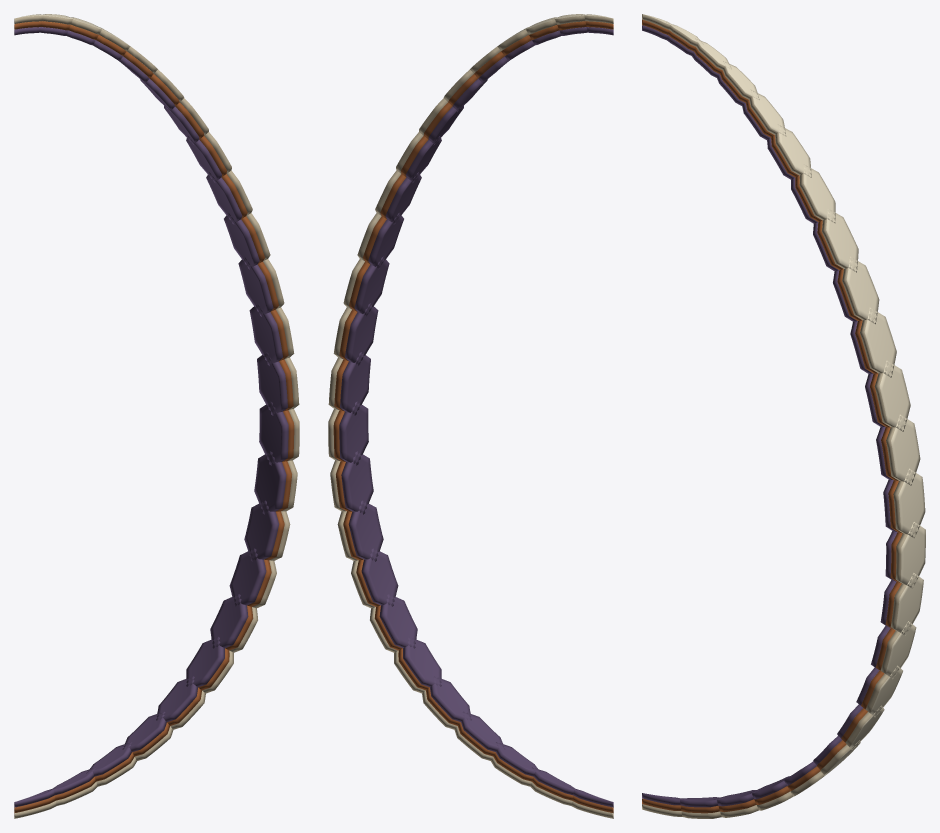
Rendered from vesper-egg-plates.fbx.
3 views of the same model, side by side, from view 1: azimuth 30°, elevation 25°; view 2: azimuth 150°, elevation 25°; view 3: azimuth 330°, elevation 25° (orthographic).
Parts seen in each view (by area): view 1: L3_R09, L3_R08, L3_R10, L3_R07, L3_R11, L3_R06, L3_R12, L3_R05, L3_R13, L3_R04, L3_R14, L3_R03 (+3 smaller); view 2: L3_R09, L3_R08, L3_R10, L3_R07, L3_R11, L3_R06, L3_R12, L3_R05, L3_R13, L3_R04, L3_R14, L3_R03 (+3 smaller); view 3: L1_R13, L1_R12, L1_R14, L1_R11, L1_R15, L1_R10, L1_R16, L1_R09, L1_R17, L1_R08, L1_R18, L1_R19 (+3 smaller).
Part boxes in pixels (box(x1,y1,x2,y2)): L3_R09: box(254, 451, 286, 514); L3_R08: box(244, 500, 279, 561); L3_R10: box(259, 401, 288, 465); L3_R07: box(229, 548, 266, 606); L3_R11: box(257, 352, 287, 415); L3_R06: box(210, 594, 248, 648); L3_R12: box(249, 303, 282, 365); L3_R05: box(186, 637, 224, 687); L3_R13: box(238, 256, 273, 316); L3_R04: box(156, 676, 197, 721); L3_R14: box(224, 213, 259, 269); L3_R03: box(122, 711, 166, 751); L3_R09: box(341, 451, 373, 514); L3_R08: box(348, 500, 383, 561); L3_R10: box(339, 401, 368, 465); L3_R07: box(361, 548, 398, 606); L3_R11: box(340, 352, 370, 415); L3_R06: box(379, 594, 417, 648); L3_R12: box(345, 303, 378, 365); L3_R05: box(403, 637, 441, 687); L3_R13: box(354, 256, 389, 316); L3_R04: box(430, 676, 471, 721); L3_R14: box(368, 213, 403, 269); L3_R03: box(461, 711, 505, 751); L1_R13: box(874, 360, 910, 431); L1_R12: box(886, 414, 920, 485); L1_R14: box(860, 307, 896, 377); L1_R11: box(893, 468, 925, 538); L1_R15: box(842, 256, 879, 324); L1_R10: box(895, 522, 925, 588); L1_R16: box(821, 208, 858, 272); L1_R09: box(890, 573, 923, 635); L1_R17: box(799, 164, 835, 223); L1_R08: box(880, 621, 916, 678); L1_R18: box(775, 124, 811, 177); L1_R19: box(749, 90, 786, 136).
Size of the model in its own units: 2437 by 6800 by 381.
